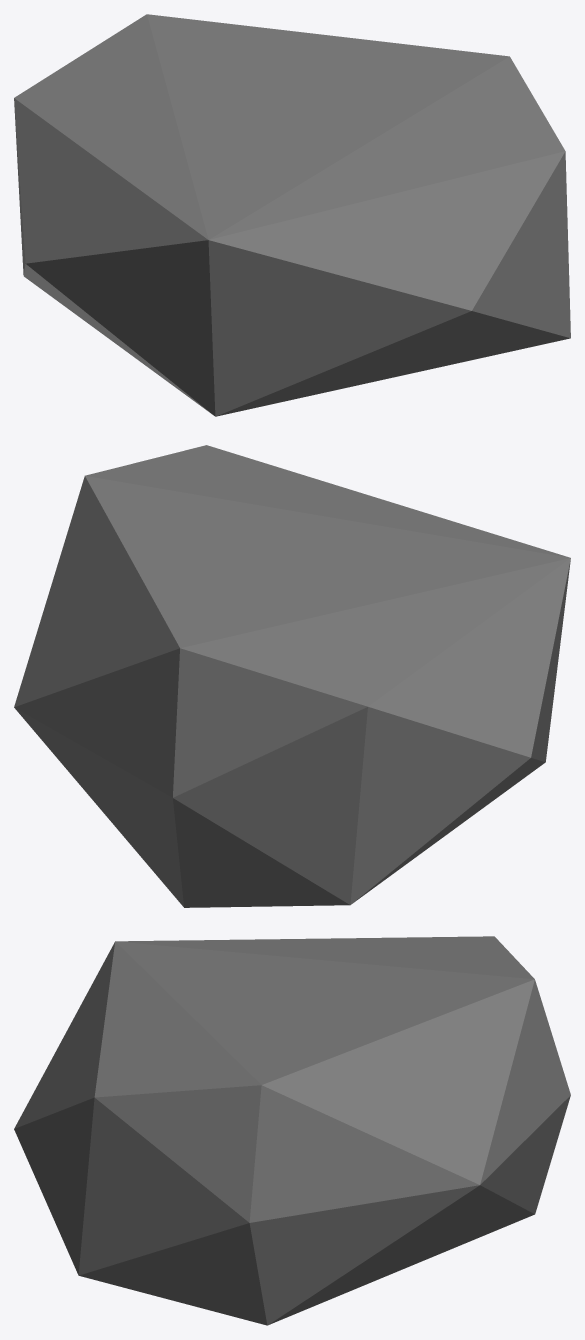
The model's file is Rock_04.fbx.
The picture shows the model from 3 angles, top to bottom: view 1: azimuth 30°, elevation 25°; view 2: azimuth 150°, elevation 25°; view 3: azimuth 270°, elevation 25°; orthographic projection. The views are drawn at different scales.
Visible parts, largest first — view 1: Rock_04; view 2: Rock_04; view 3: Rock_04.
Part boxes in pixels (box(x1,y1,x2,y2)): Rock_04: box(14, 14, 570, 416); Rock_04: box(14, 445, 570, 907); Rock_04: box(14, 936, 570, 1325).
Bounding box in the file's own units: 1.51 × 0.724 × 1.52.
